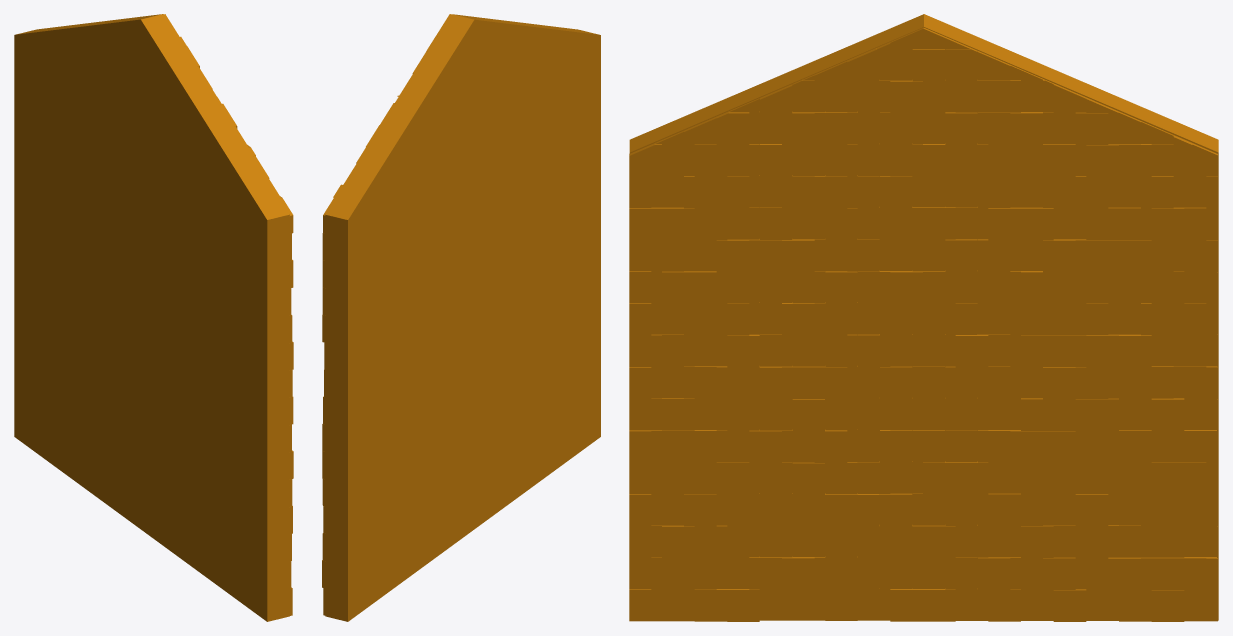
File: murs.fbx
The picture shows the model from 3 angles, left to right: view 1: azimuth 30°, elevation 25°; view 2: azimuth 150°, elevation 25°; view 3: azimuth 270°, elevation 25°; orthographic projection. The views are drawn at different scales.
Visible parts, largest first — view 1: murs.006, murs.007; view 2: murs.006, murs.007; view 3: murs.007, murs.006.
Part boxes in pixels (x1,y1,x2,y2): murs.006: (14,14,289,621); murs.007: (164,14,293,616); murs.006: (325,14,600,621); murs.007: (322,14,451,615); murs.007: (629,27,1217,621); murs.006: (629,14,1218,620).
Size of the model in its own units: 57.63 by 1067 by 961.
